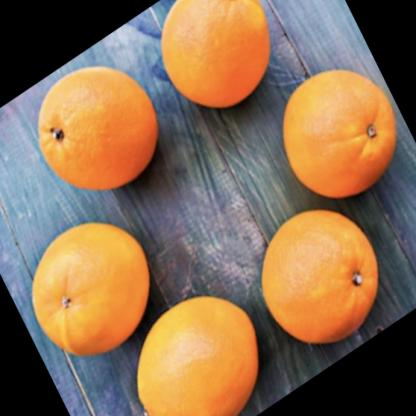fresh: (33, 1, 399, 416)
